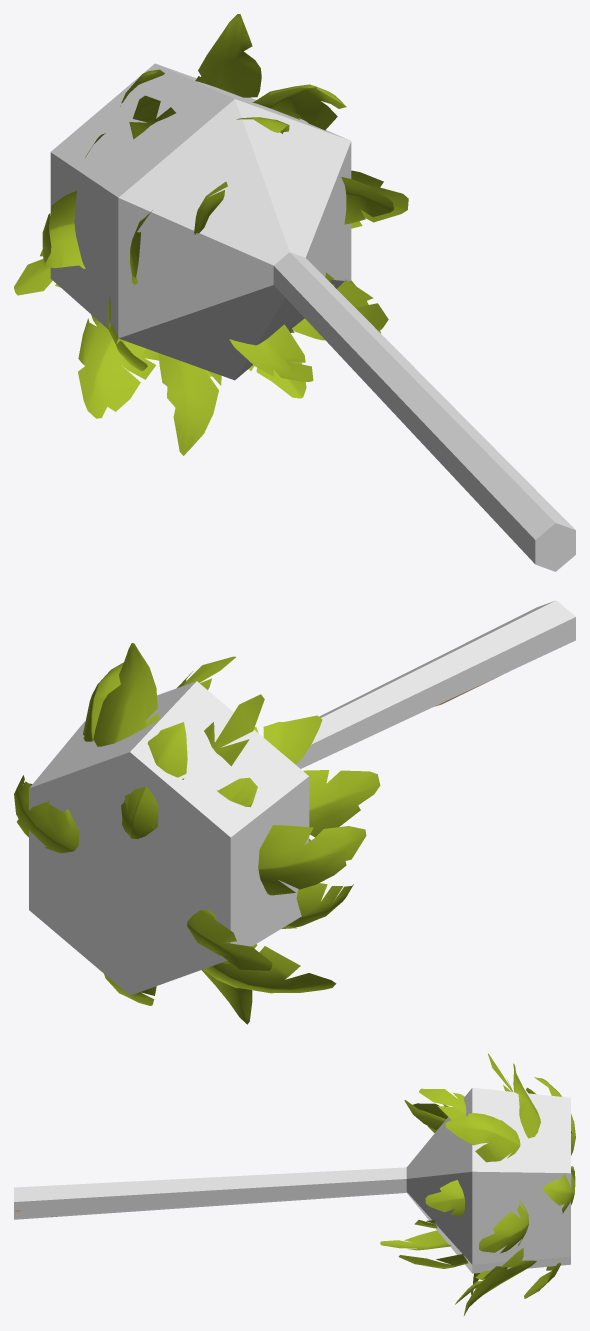
Rendered from coconut_tree_smooth.fbx.
The picture shows the model from 3 angles, top to bottom: view 1: azimuth 30°, elevation 25°; view 2: azimuth 150°, elevation 25°; view 3: azimuth 270°, elevation 25°; orthographic projection. The views are drawn at different scales.
Visible parts, largest first — view 1: c_coconut_tree_smooth, coconut_tree_smooth; view 2: c_coconut_tree_smooth, coconut_tree_smooth; view 3: c_coconut_tree_smooth, coconut_tree_smooth.
Boxes of the visible parts, <box> form: c_coconut_tree_smooth: <box>50,63,575,571</box>; coconut_tree_smooth: <box>14,14,408,455</box>; c_coconut_tree_smooth: <box>29,600,575,995</box>; coconut_tree_smooth: <box>14,643,501,1024</box>; c_coconut_tree_smooth: <box>14,1087,570,1273</box>; coconut_tree_smooth: <box>15,1053,575,1315</box>.
Size of the model in its own units: 338 by 357 by 692.
